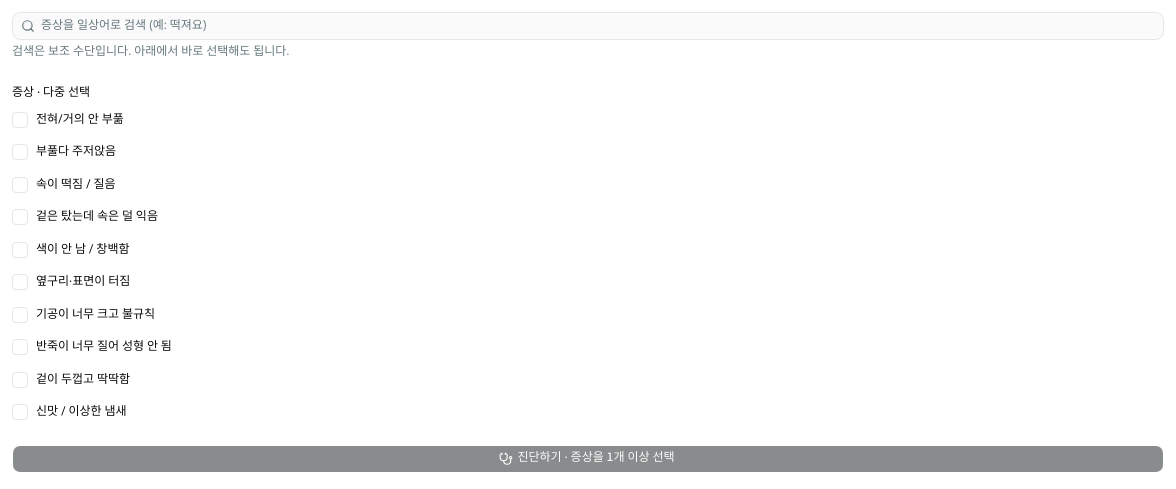
Test: SymptomChecklist — 증상 검색 › 떡져요 입력 → 속이 떡짐/질음만 나타나고 무관한 증상은 사라진다
The image size is (1176, 489).
In the field with placeholder "증상을 일상어로 검색 (예: 떡져요)": [599, 26] box left=35, top=12, right=1163, bottom=40, type "떡져요"
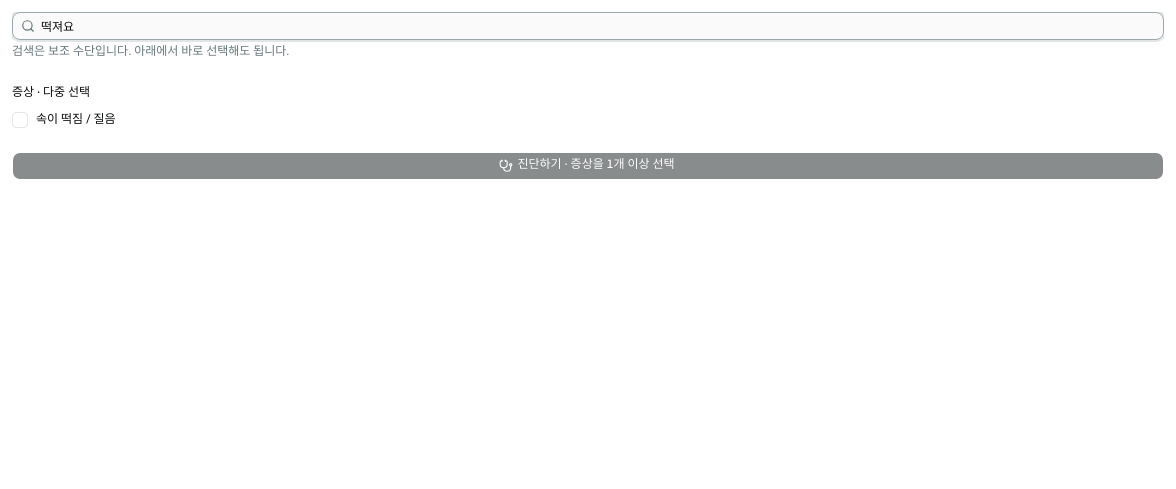
Check: the checkbox named "속이 떡짐 / 질음" is shown, box left=12, top=112, right=28, bottom=128
Check: the label labelled "전혀/거의 안 부풂" is gone
